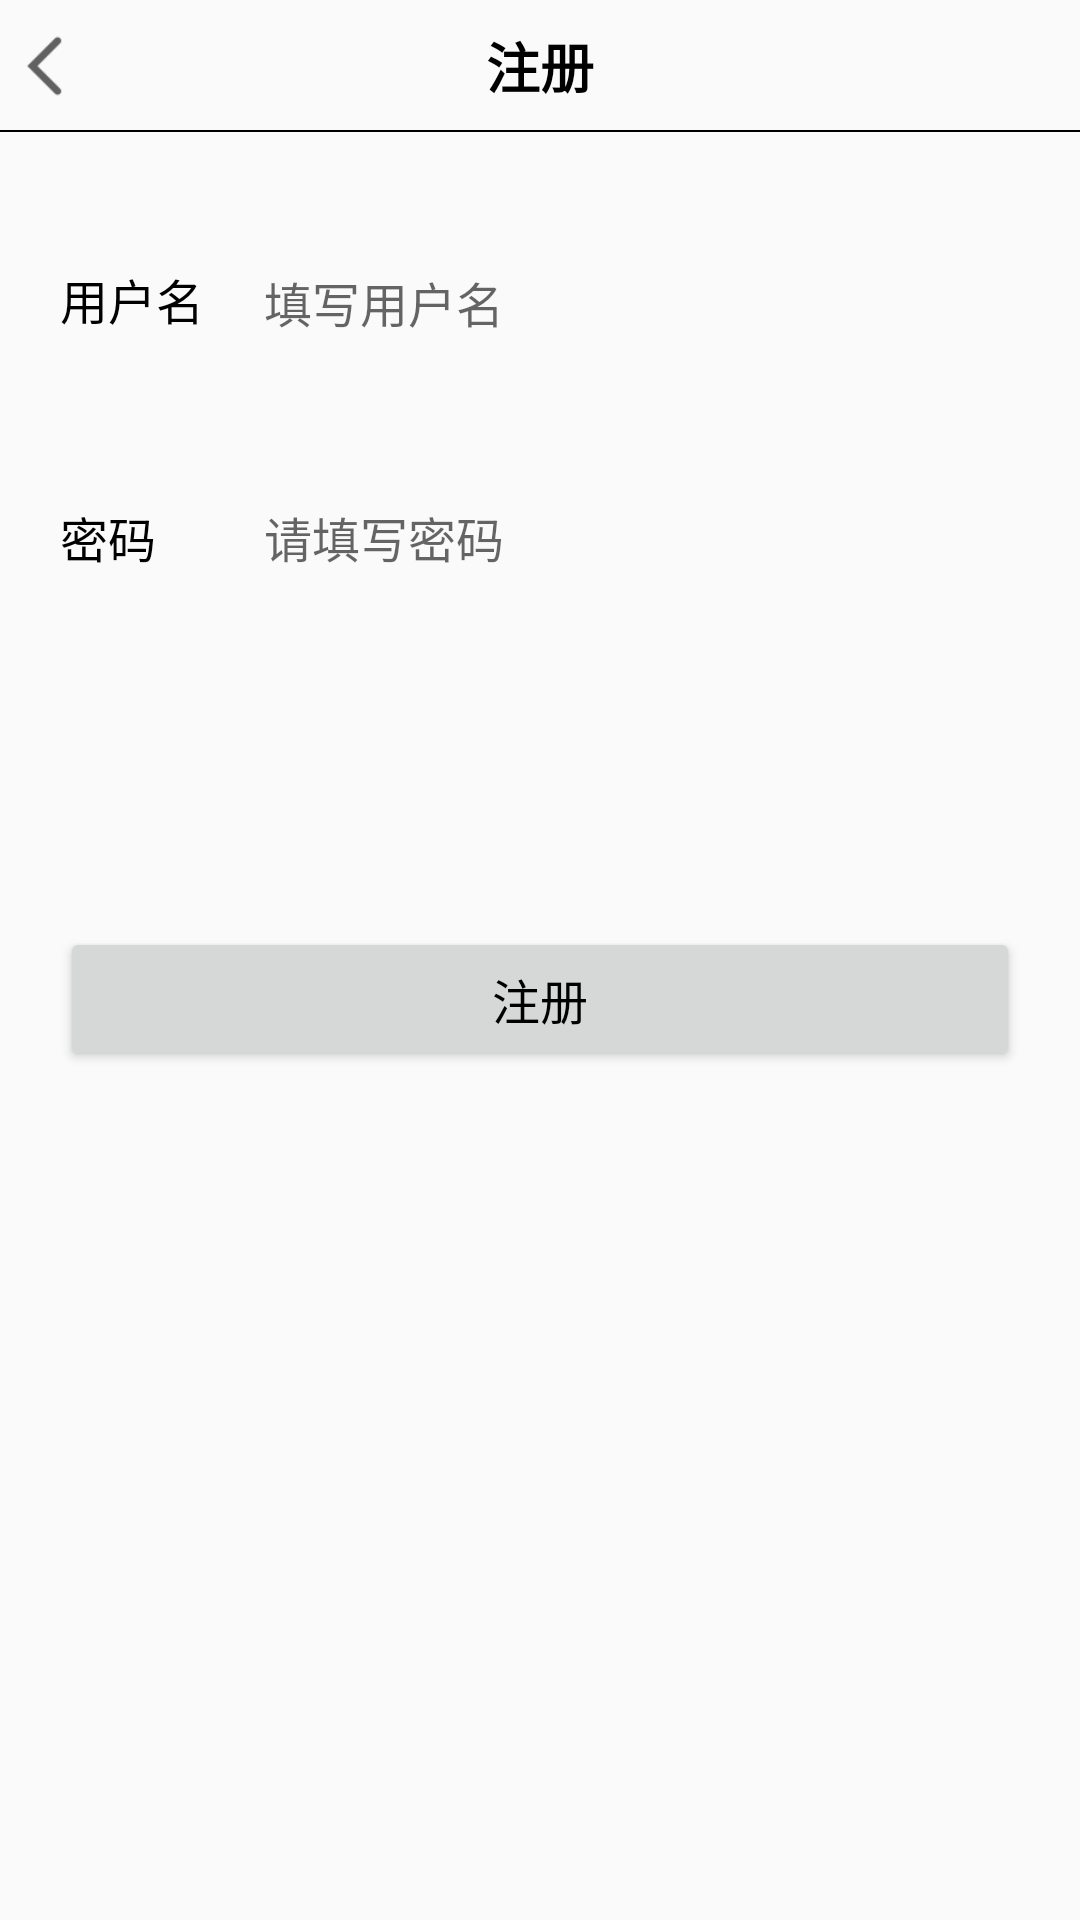

Point at icon controls on the screen. Image size 1080*1920, points as [x,y].
title back: [44,66]
